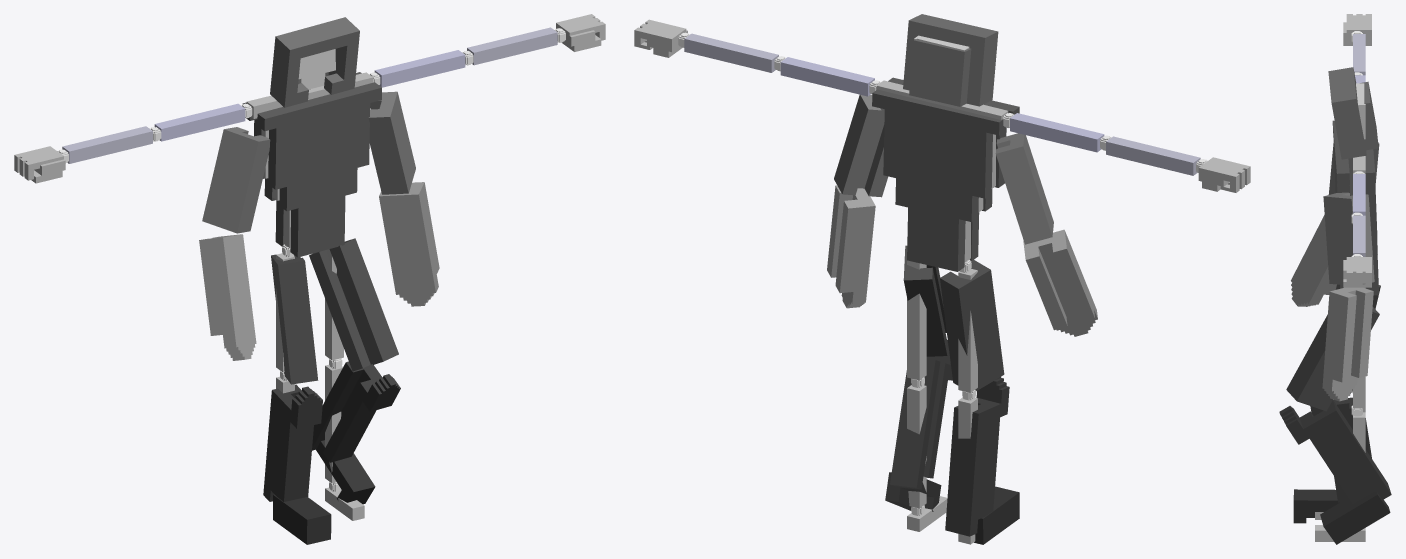
The model's file is testmodel2.glb.
3 views of the same model, side by side, from view 1: azimuth 30°, elevation 25°; view 2: azimuth 150°, elevation 25°; view 3: azimuth 270°, elevation 25° (orthographic). The views are drawn at different scales.
Parts seen in each view (by area): view 1: torsoFrontArmor, leftUpperLegArmor, leftLowerArmArmor, rightLowerLegArmor, rightLowerArmArmor.001, headArmor, rightUpperArmArmor, leftLowerLegArmor, rightUpperLegArmor, leftUpperArmArmor, rightFootArmor, leftUpperArm (+10 smaller); view 2: torsoBackArmor, headArmor, rightLowerLegArmor, rightUpperLegArmor, rightLowerArmArmor.001, leftLowerArmArmor, leftLowerLegArmor, leftUpperArmArmor, rightUpperArmArmor, leftUpperLegArmor, leftLowerArm, rightLowerArm (+11 smaller); view 3: leftLowerLegArmor, leftLowerArmArmor, headArmor, leftUpperArmArmor, rightLowerArmArmor.001, leftUpperLegArmor, leftFootArmor, rightFootArmor, torsoBackArmor, leftHand, torsoFrontArmor, rightHand (+10 smaller).
Boxes of the visible parts, x1=… form: torsoFrontArmor: x1=257, y1=82, x2=381, y2=257; leftUpperLegArmor: x1=309, y1=238, x2=398, y2=371; leftLowerArmArmor: x1=379, y1=182, x2=439, y2=306; rightLowerLegArmor: x1=263, y1=384, x2=322, y2=501; rightLowerArmArmor.001: x1=199, y1=234, x2=256, y2=360; headArmor: x1=270, y1=17, x2=359, y2=107; rightUpperArmArmor: x1=202, y1=127, x2=270, y2=233; leftLowerLegArmor: x1=312, y1=361, x2=400, y2=462; rightUpperLegArmor: x1=271, y1=254, x2=318, y2=384; leftUpperArmArmor: x1=368, y1=91, x2=415, y2=194; rightFootArmor: x1=273, y1=494, x2=331, y2=544; leftUpperArm: x1=374, y1=50, x2=465, y2=87; torsoBackArmor: x1=872, y1=89, x2=1005, y2=271; headArmor: x1=903, y1=14, x2=998, y2=106; rightLowerLegArmor: x1=945, y1=377, x2=1009, y2=536; rightUpperLegArmor: x1=940, y1=260, x2=1004, y2=390; rightLowerArmArmor.001: x1=1023, y1=229, x2=1097, y2=336; leftLowerArmArmor: x1=827, y1=185, x2=875, y2=308; leftLowerLegArmor: x1=890, y1=340, x2=952, y2=489; leftUpperArmArmor: x1=834, y1=94, x2=888, y2=197; rightUpperArmArmor: x1=995, y1=133, x2=1053, y2=244; leftUpperLegArmor: x1=903, y1=245, x2=947, y2=356; leftLowerArm: x1=684, y1=33, x2=778, y2=72; rightLowerArm: x1=1106, y1=136, x2=1200, y2=175; leftLowerLegArmor: x1=1279, y1=400, x2=1391, y2=503; leftLowerArmArmor: x1=1322, y1=287, x2=1373, y2=401; headArmor: x1=1328, y1=67, x2=1378, y2=159; leftUpperArmArmor: x1=1323, y1=192, x2=1374, y2=284; rightLowerArmArmor.001: x1=1291, y1=215, x2=1336, y2=306; leftUpperLegArmor: x1=1286, y1=307, x2=1379, y2=411; leftFootArmor: x1=1320, y1=491, x2=1390, y2=544; rightFootArmor: x1=1293, y1=489, x2=1339, y2=523; torsoBackArmor: x1=1365, y1=149, x2=1378, y2=295; leftHand: x1=1343, y1=257, x2=1371, y2=287; torsoFrontArmor: x1=1332, y1=120, x2=1350, y2=288; rightHand: x1=1343, y1=14, x2=1371, y2=45.
Bounding box in the file's own units: 96.52 × 77.57 × 17.7.
Materials: 2 (2 with a texture image).
